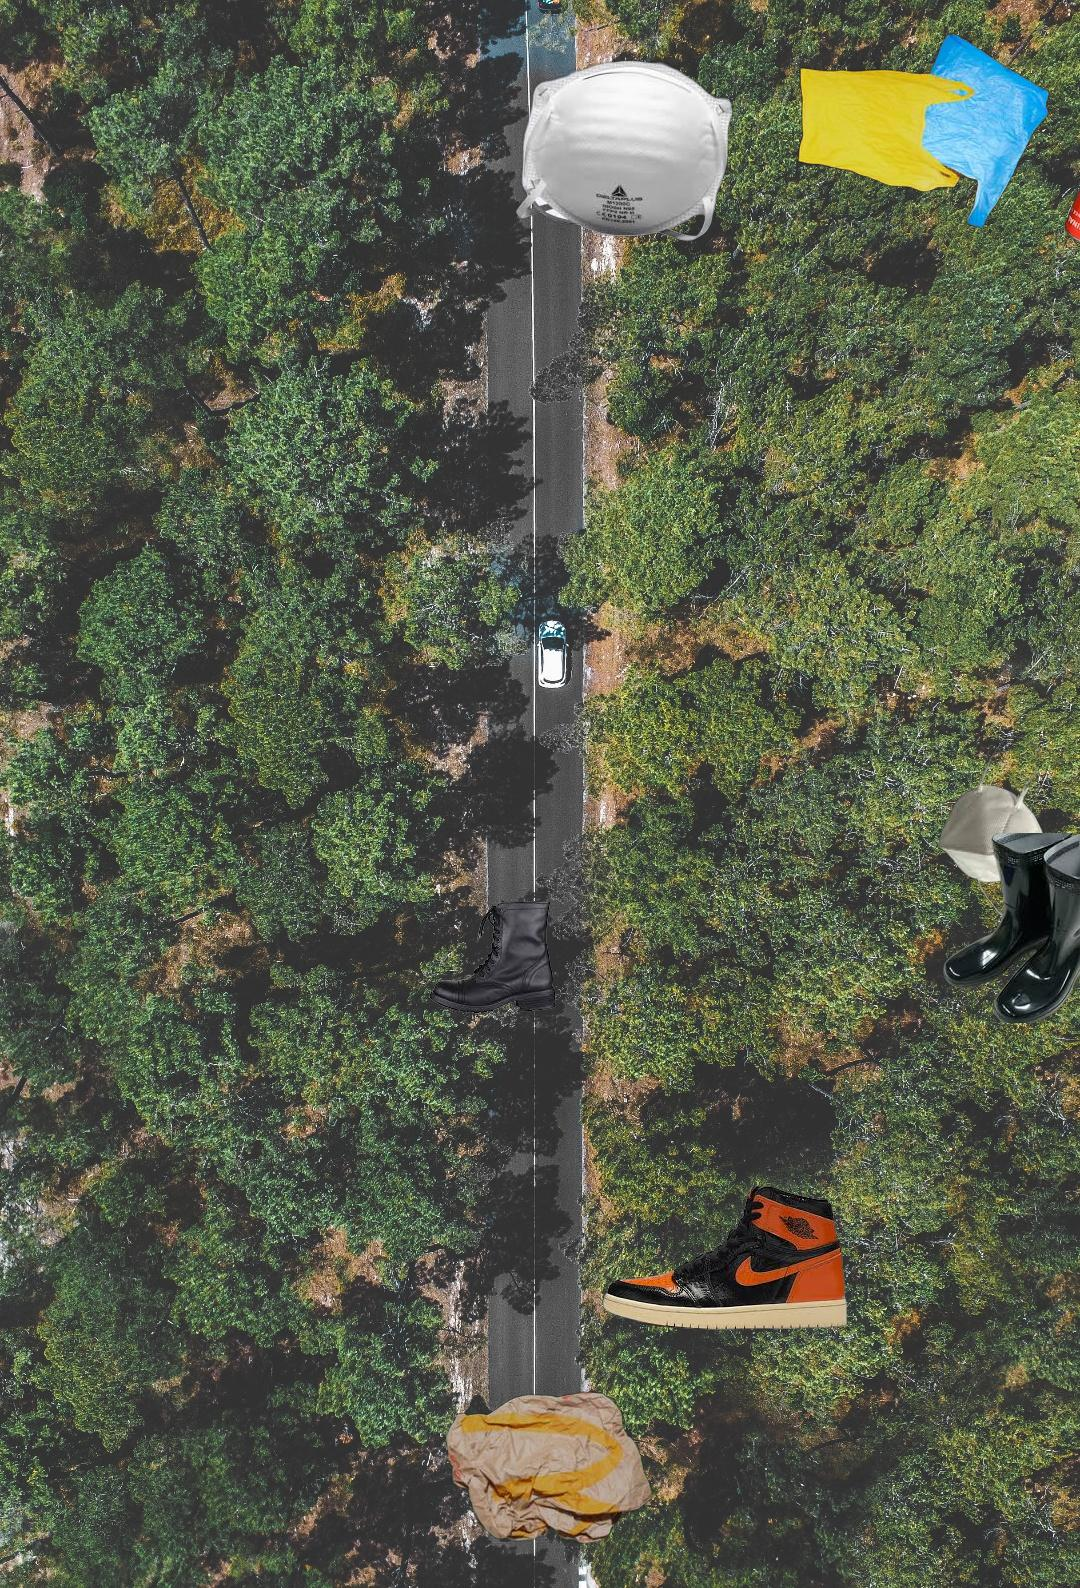metal-cans: (1060, 102, 1080, 255)
paper-bag: (442, 1390, 655, 1547)
plastic-bag: (796, 31, 1051, 230)
shoes: (594, 1182, 850, 1357), (941, 833, 1080, 1023), (425, 898, 559, 1014)
trash: (513, 58, 736, 245), (935, 733, 1053, 927)
